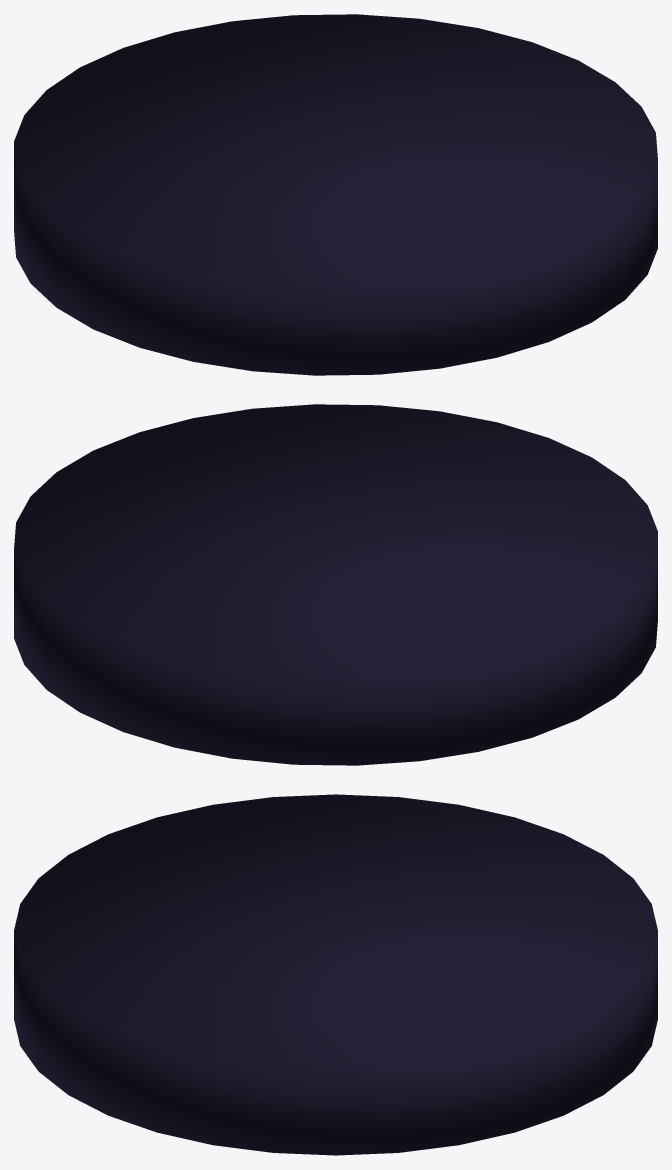
Rendered from intro_platform.glb.
The picture shows the model from 3 angles, top to bottom: view 1: azimuth 30°, elevation 25°; view 2: azimuth 150°, elevation 25°; view 3: azimuth 270°, elevation 25°; orthographic projection.
Visible parts, largest first — view 1: Circle.002; view 2: Circle.002; view 3: Circle.002.
Boxes of the visible parts, x1,y1,x2,y2 form: Circle.002: [14, 14, 657, 375]; Circle.002: [14, 404, 657, 765]; Circle.002: [14, 794, 657, 1155].
Bounding box in the file's own units: 2.19 × 0.3338 × 2.19.
